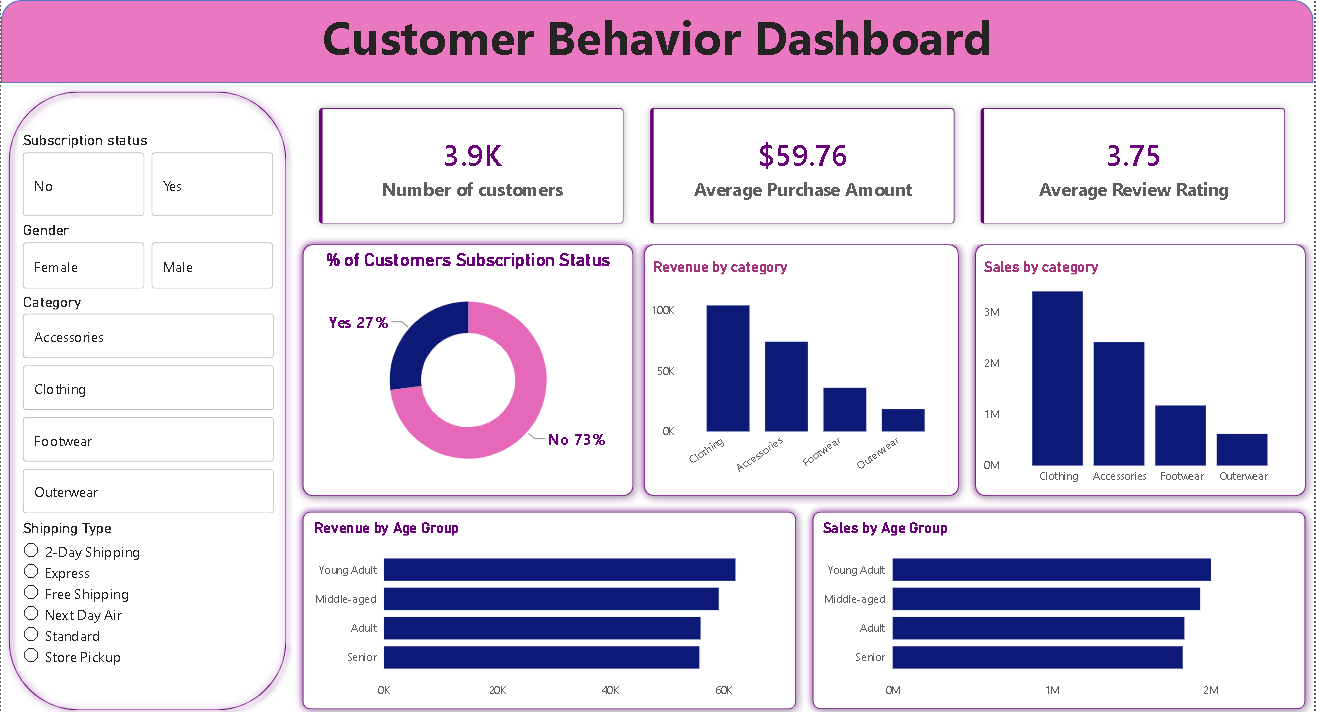

Layout of this report page (visuals, bound fields, positions):
{"tool":"powerbi","page":{"name":"Page 1","canvas":[1500,820],"ordinal":0},"visuals":[{"type":"shape","box":[336,576,582,244],"z":0},{"type":"shape","box":[1104,270,396,306],"z":1000},{"type":"shape","box":[726,270,378,306],"z":2000},{"type":"cardVisual","fields":{"Data":["public customer.Number of customers","public customer.Average Purchase Amount","public customer.Average Review Rating"]},"box":[335.7,95.7,1162.9,188.6],"z":3000},{"type":"shape","box":[0,0,1500,95],"z":4000},{"type":"textbox","box":[0,0,1498.6,95.7],"z":5000},{"type":"shape","box":[336,270,396,306],"z":6000},{"type":"donutChart","title":"% of Customers Subscription Status","fields":{"Category":["public customer.subscription_status"],"Y":["CountNonNull(public customer.customer_id)"]},"box":[352.5,283.8,362.5,277.5],"z":7000},{"type":"clusteredColumnChart","title":"Revenue by category","fields":{"Category":["public customer.category"],"Y":["Sum(public customer.purchase_amount)"]},"box":[740,294,350,268],"z":8000},{"type":"shape","box":[0,95,335,725],"z":9000},{"type":"advancedSlicerVisual","fields":{"Values":["public customer.subscription_status"]},"box":[20,150,297.9,102.9],"z":10000},{"type":"advancedSlicerVisual","fields":{"Values":["public customer.gender"]},"box":[20,252.5,297.5,82.5],"z":11000},{"type":"advancedSlicerVisual","fields":{"Values":["public customer.category"]},"box":[20,335,297.5,257.5],"z":12000},{"type":"listSlicer","fields":{"Values":["public customer.shipping_type"]},"box":[20,592.7,288.2,173.6],"z":13000},{"type":"clusteredColumnChart","title":"Sales by category","fields":{"Category":["public customer.category"],"Y":["Sum(public customer.customer_id)"]},"box":[1118,294,364,268],"z":15000},{"type":"clusteredBarChart","title":"Revenue by Age Group","fields":{"Category":["public customer.age_group"],"Y":["Sum(public customer.purchase_amount)"]},"box":[352.5,592.5,552.5,215],"z":15500},{"type":"shape","box":[918.8,576.2,581.2,243.8],"z":15501},{"type":"clusteredBarChart","title":"Sales by Age Group","fields":{"Category":["public customer.age_group"],"Y":["Sum(public customer.customer_id)"]},"box":[933.8,592.5,552.5,215],"z":15502}]}

Visuals, with their boxes in screenshot pixels (x1, y1, x2, y2), scaled from the page's 1500x820 canvas onto the 1319x712 screenshot:
shape: (295,500,807,711)
shape: (971,234,1318,500)
shape: (638,234,971,500)
cardVisual - public customer.Number of customers x public customer.Average Purchase Amount: (295,83,1318,247)
shape: (0,0,1318,82)
textbox: (0,0,1318,83)
shape: (295,234,644,500)
"% of Customers Subscription Status" donutChart: (310,246,629,487)
"Revenue by category" clusteredColumnChart: (651,255,958,488)
shape: (0,82,295,711)
advancedSlicerVisual - public customer.subscription_status: (18,130,280,220)
advancedSlicerVisual - public customer.gender: (18,219,279,291)
advancedSlicerVisual - public customer.category: (18,291,279,514)
listSlicer - public customer.shipping_type: (18,515,271,665)
"Sales by category" clusteredColumnChart: (983,255,1303,488)
"Revenue by Age Group" clusteredBarChart: (310,514,796,701)
shape: (808,500,1318,711)
"Sales by Age Group" clusteredBarChart: (821,514,1307,701)
